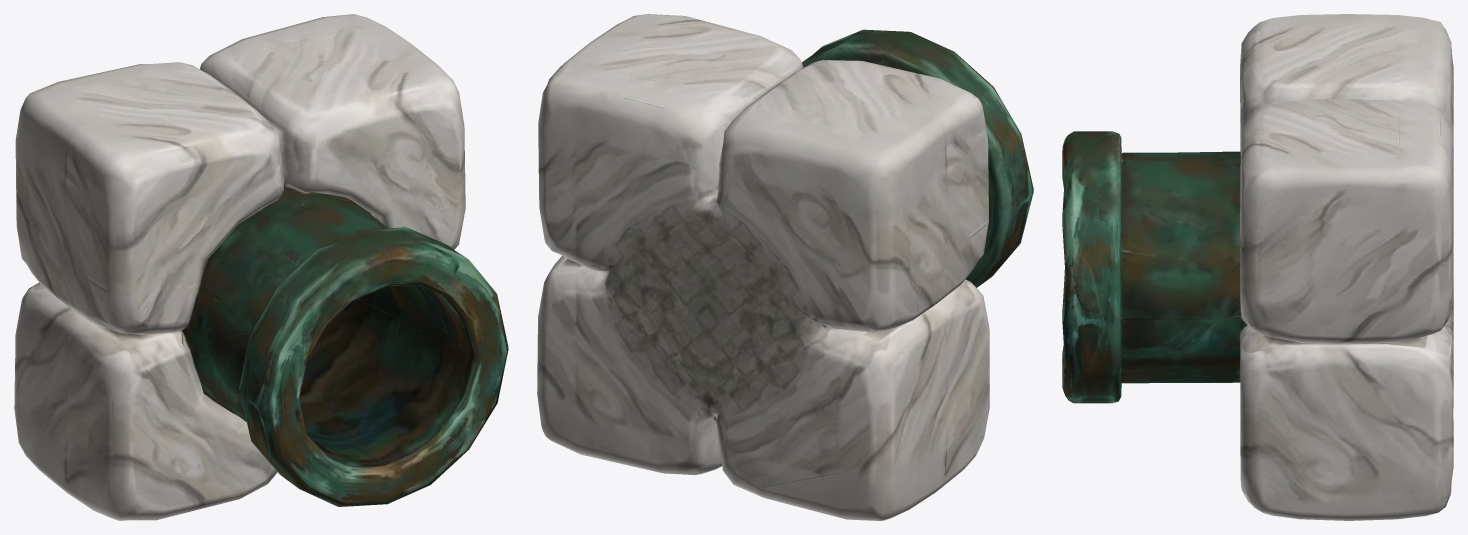
The model's file is pipe.glb.
The picture shows the model from 3 angles, left to right: view 1: azimuth 30°, elevation 25°; view 2: azimuth 150°, elevation 25°; view 3: azimuth 270°, elevation 25°; orthographic projection. The views are drawn at different scales.
Size of the model in its own units: 1.01 by 0.9999 by 1.
1 material, 1 textured.
